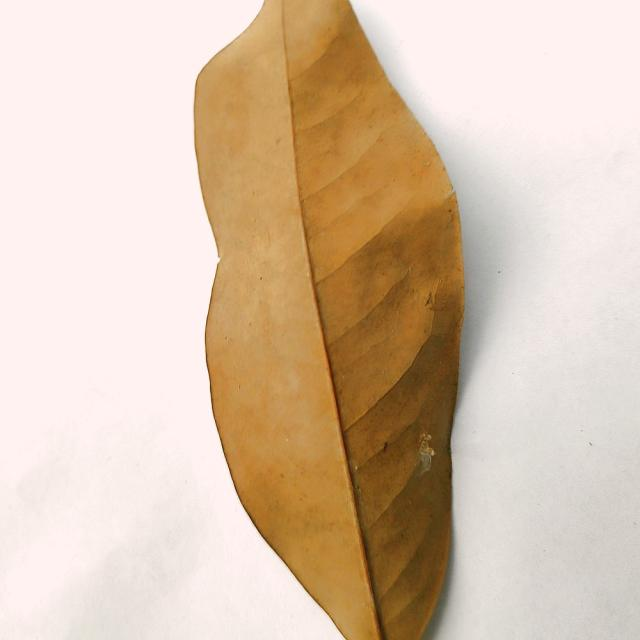Dry_Leaf-Lychee: (193, 0, 467, 639)
